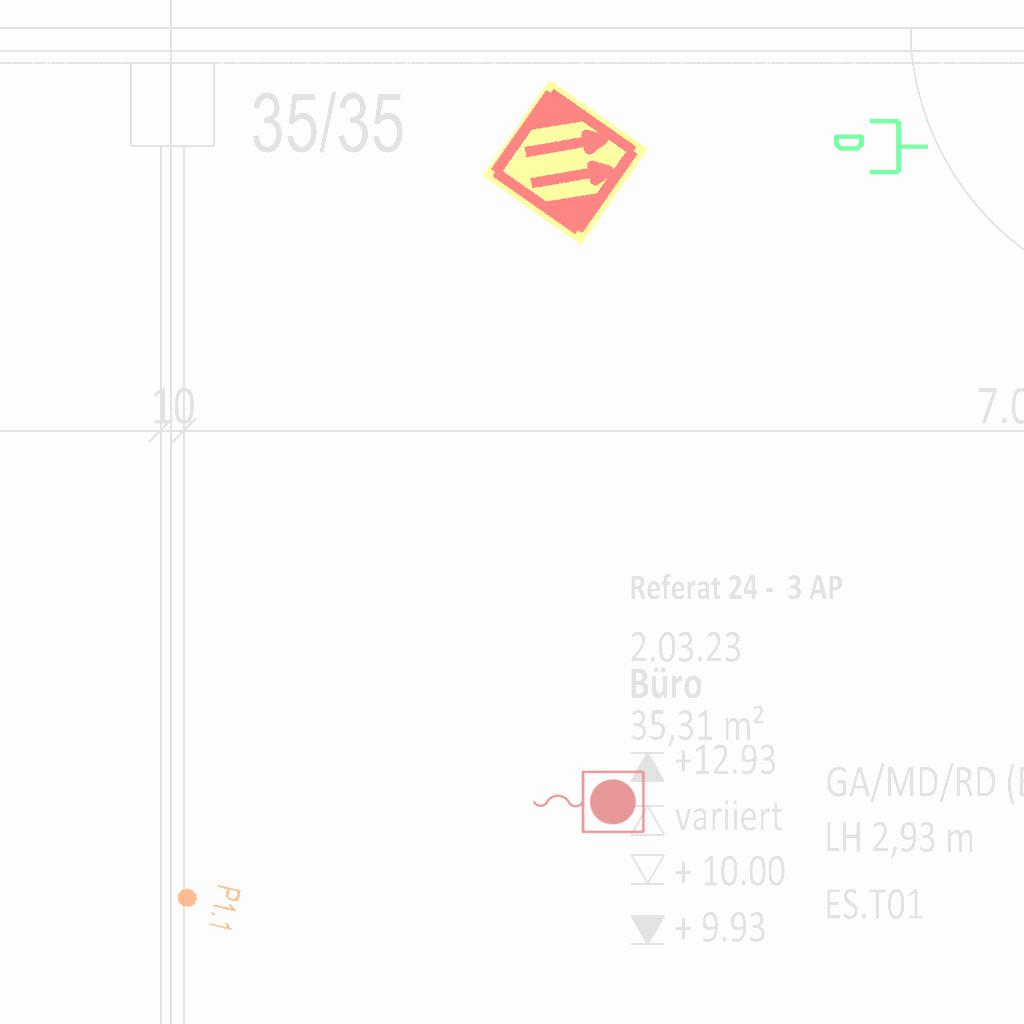ASR_Ansaugrauchmelder: (478, 75, 653, 250)
Datenanschluss_einfach: (831, 114, 931, 183)
Downlight_LED_Einbauleuchten_Flur: (170, 874, 244, 934)
Zugtaster: (527, 765, 649, 837)
